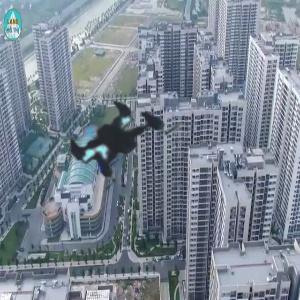drone: (25, 49, 210, 234)
